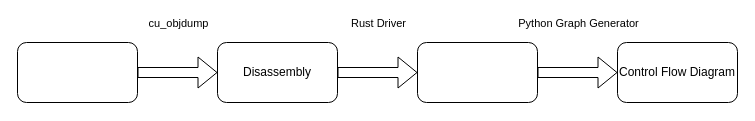
Some shapes in this 755 by 121 pixel diagram are drawn without their labels. Each missing label, with the box of its shape:
HIP Binary: (16, 42, 138, 102)
LLVM: (416, 42, 538, 102)
